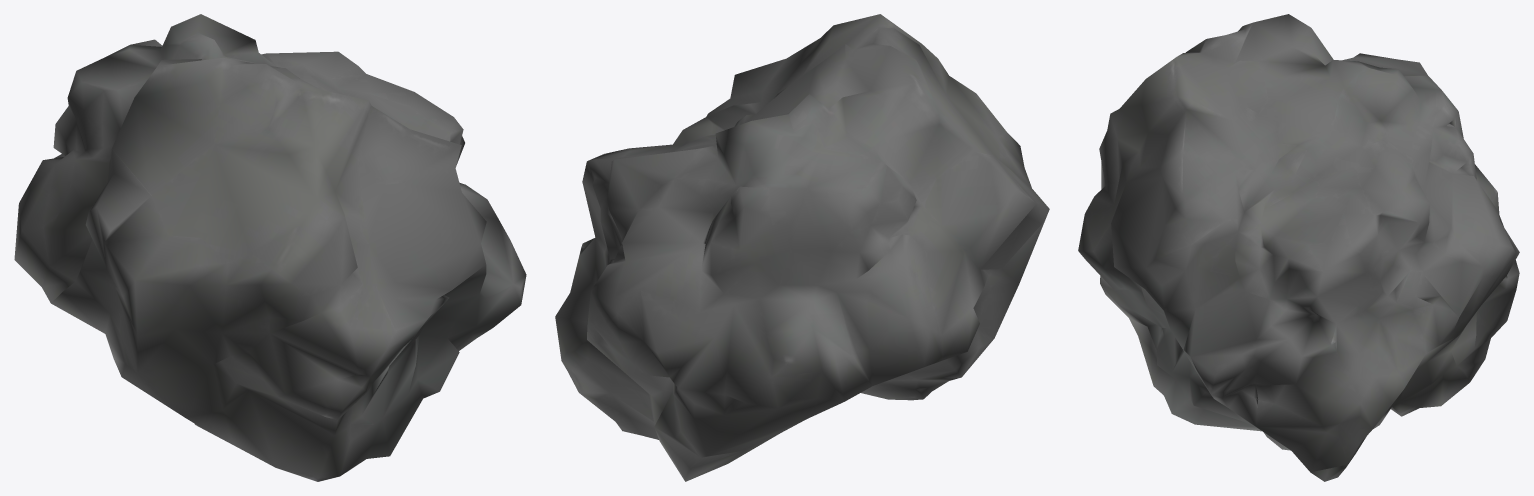
Rendered from boulder-a.glb.
3 views of the same model, side by side, from view 1: azimuth 30°, elevation 25°; view 2: azimuth 150°, elevation 25°; view 3: azimuth 270°, elevation 25° (orthographic). The views are drawn at different scales.
Parts seen in each view (by area): view 1: tripo_node_a2b78294-2b12-4e1e-8c04-dd146eca987c; view 2: tripo_node_a2b78294-2b12-4e1e-8c04-dd146eca987c; view 3: tripo_node_a2b78294-2b12-4e1e-8c04-dd146eca987c.
Boxes of the visible parts, x1,y1,x2,y2 form: tripo_node_a2b78294-2b12-4e1e-8c04-dd146eca987c: [14, 14, 526, 481]; tripo_node_a2b78294-2b12-4e1e-8c04-dd146eca987c: [555, 14, 1049, 481]; tripo_node_a2b78294-2b12-4e1e-8c04-dd146eca987c: [1078, 14, 1519, 481].
Size of the model in its own units: 0.9229 by 0.9159 by 0.9787.
Materials: 1 (1 with a texture image).
